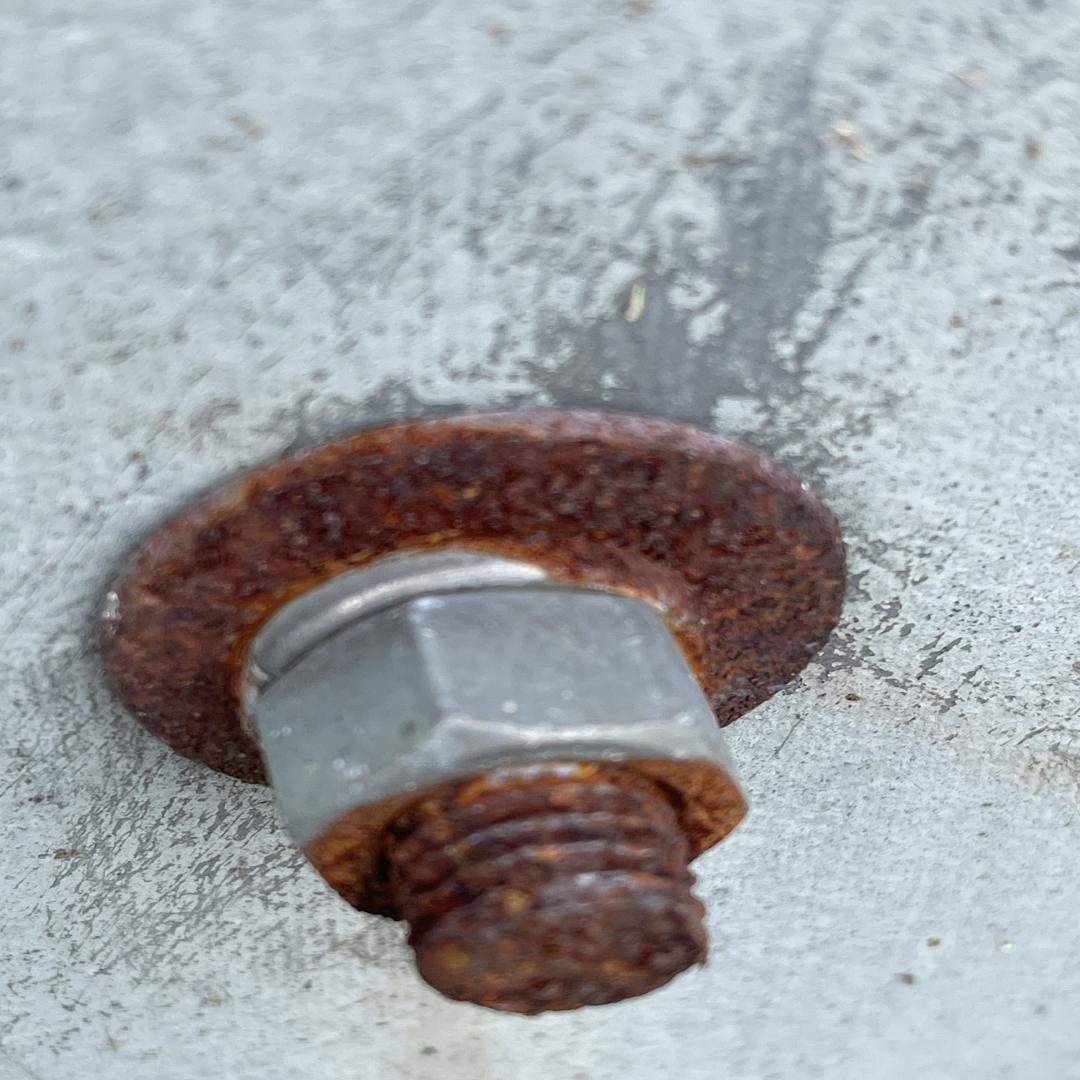Metal corroido: (99, 410, 849, 788), (304, 759, 748, 1018)
Tornillo sin corrosion: (243, 552, 732, 848)
